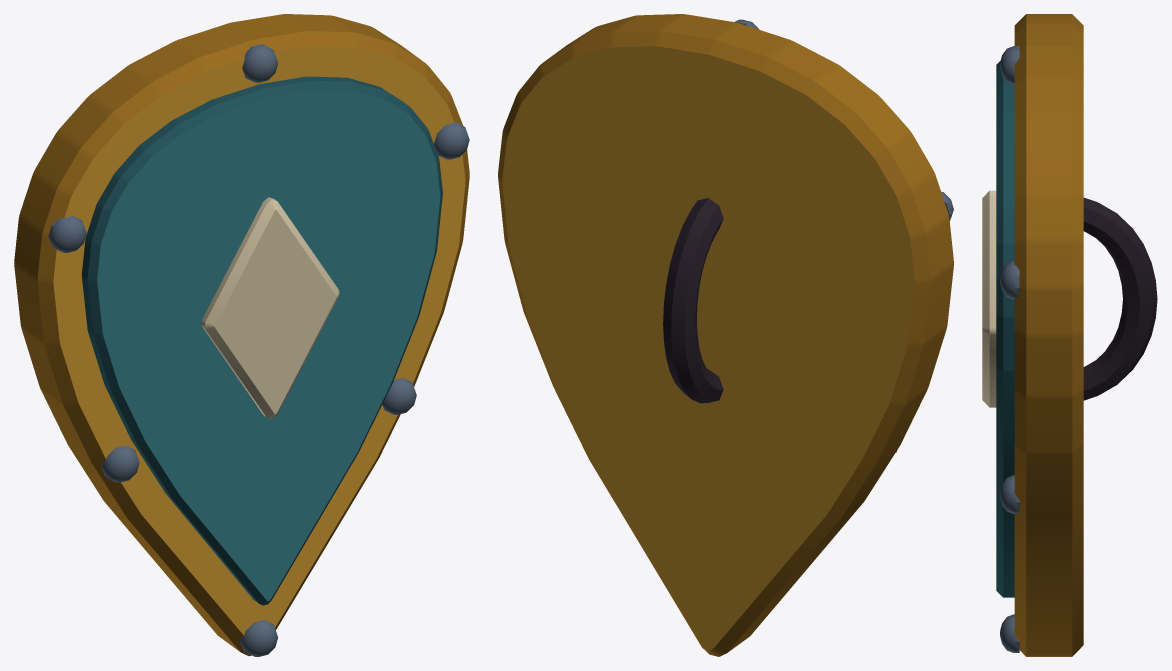
The model's file is KiteShield_07.glb.
3 renders of one model, left to right at view 1: azimuth 30°, elevation 25°; view 2: azimuth 150°, elevation 25°; view 3: azimuth 270°, elevation 25°, orthographic.
Parts seen in each view (by area): view 1: KiteShield_07; view 2: KiteShield_07; view 3: KiteShield_07.
Boxes of the visible parts, x1=… form: KiteShield_07: x1=14, y1=14, x2=469, y2=656; KiteShield_07: x1=498, y1=14, x2=953, y2=656; KiteShield_07: x1=982, y1=14, x2=1157, y2=656.
Bounding box in the file's own units: 2.14 × 2.92 × 0.76.
